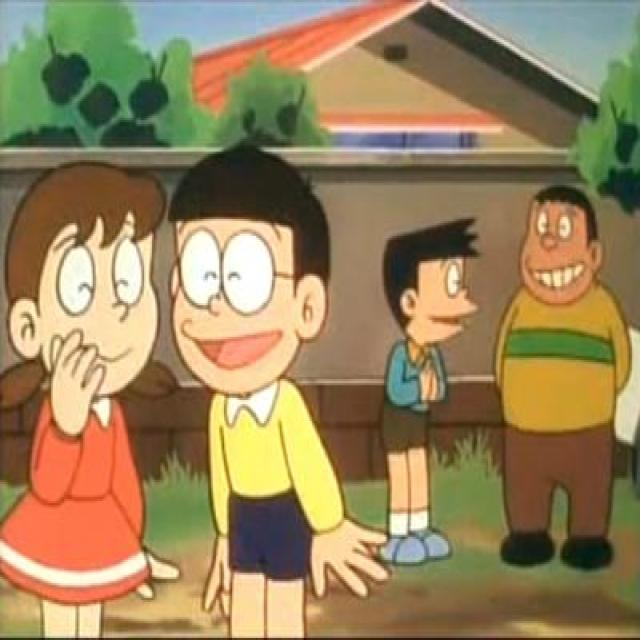jaian: (511, 179, 606, 307)
nobita: (162, 133, 336, 402)
suneo: (371, 210, 485, 358)
